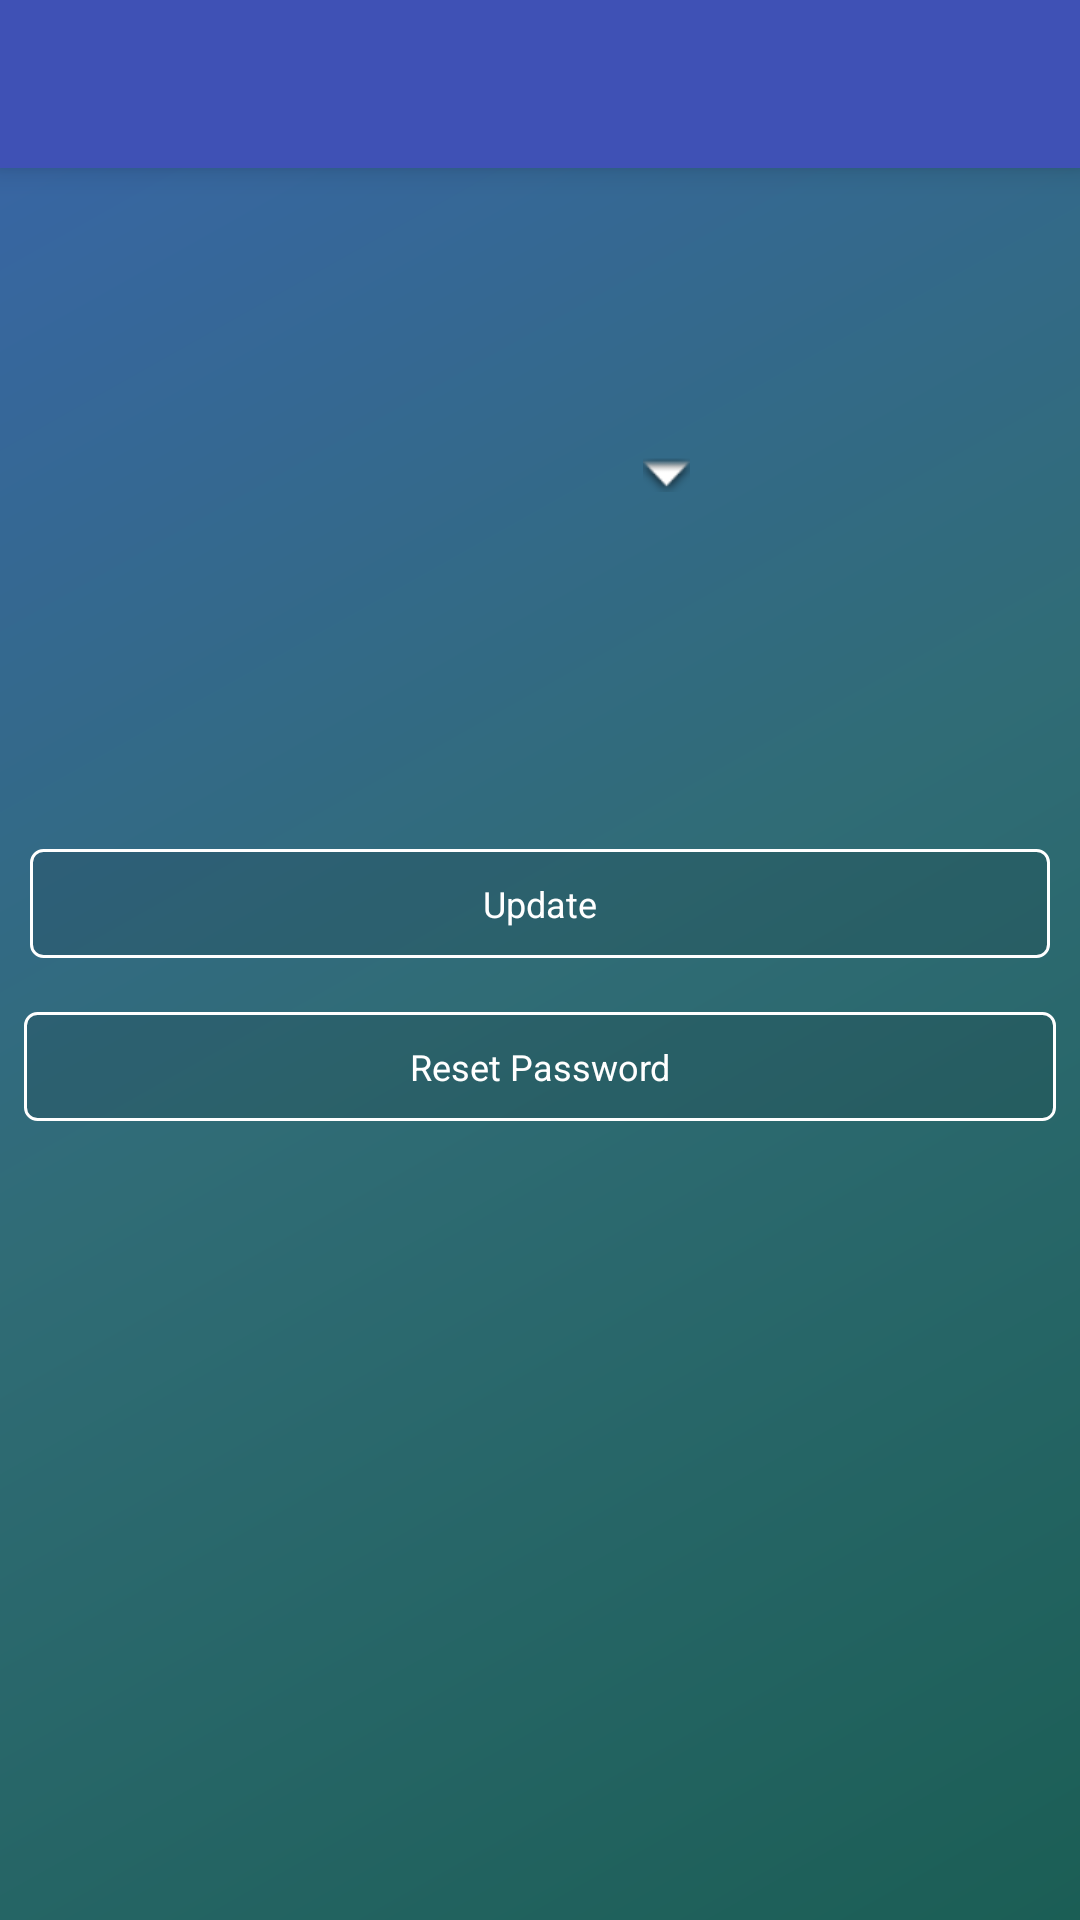

Point at icon controls on the screen. Image size 1080×1920, points as (x=x, y=y).
arrow down float: (x=666, y=475)
